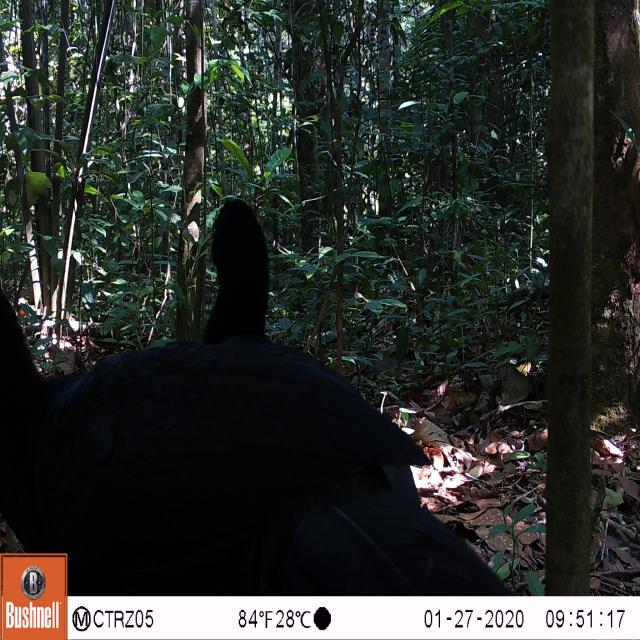Salvins Curassow: (0, 271, 517, 605), (180, 185, 395, 435)
